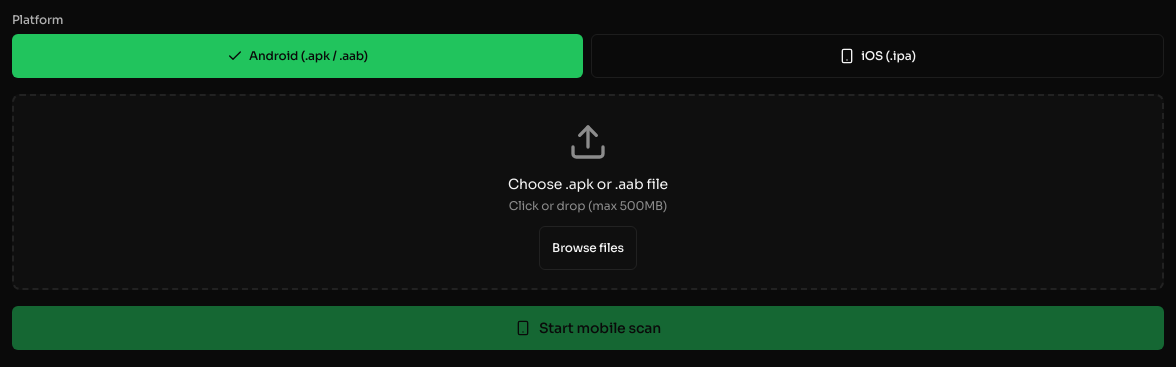
Test: MobileUpload › switches to iOS platform when iOS button is clicked
What coordinates should you click on to do the following:
click the button "iOS (.ipa)"
I would click on:
 (878, 56)
Its box is [591,34,1164,78].
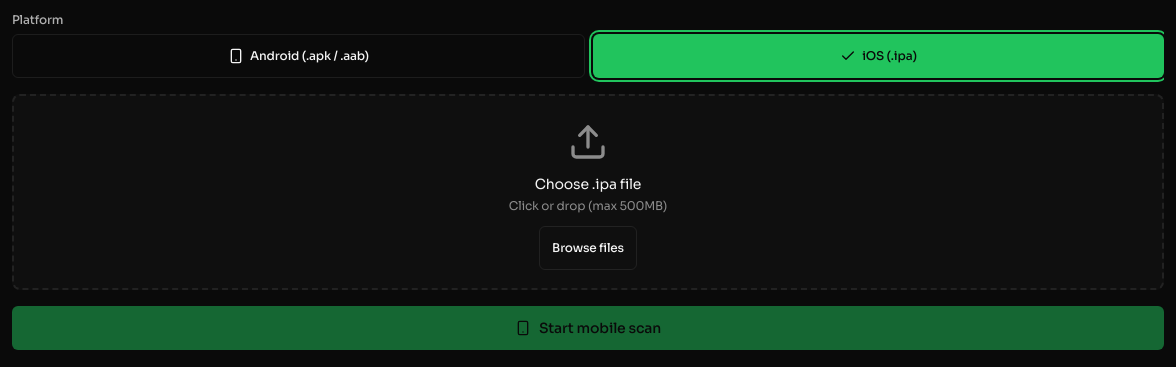
Now the text "Choose .ipa file" is shown, box [535,174,641,194]
